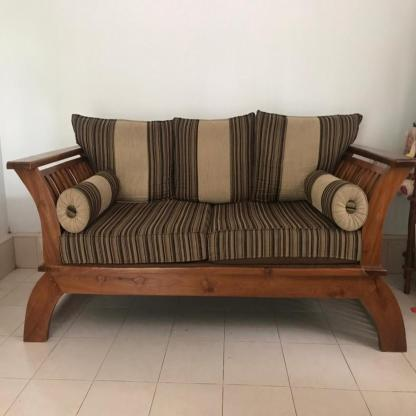Sofa: (6, 110, 412, 354)
